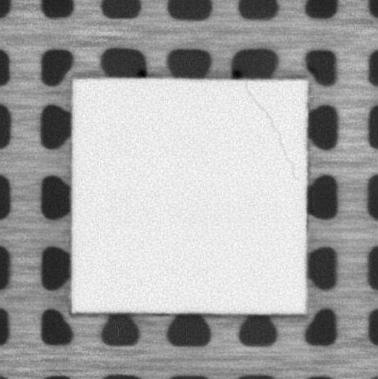DIE_CRACK: (243, 84, 299, 180)
